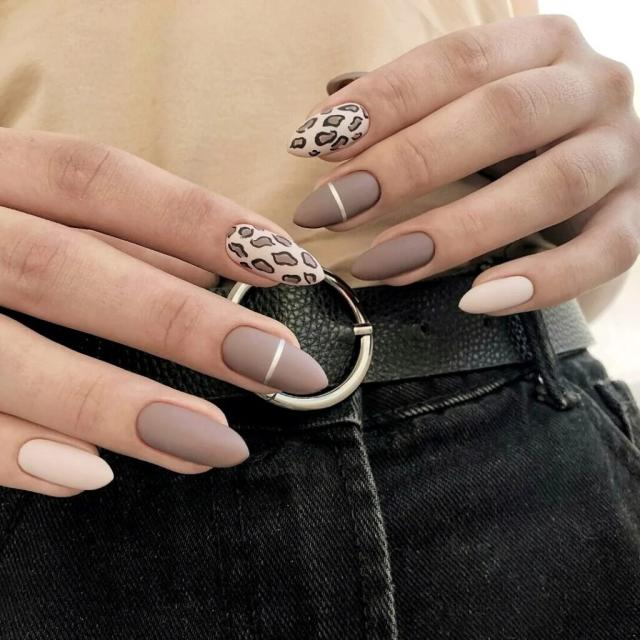Nail: (136, 402, 249, 468), (222, 326, 328, 394), (225, 224, 324, 285), (18, 439, 114, 490), (295, 171, 380, 228), (288, 104, 369, 158), (351, 232, 435, 280), (459, 275, 534, 314), (326, 71, 368, 95)
